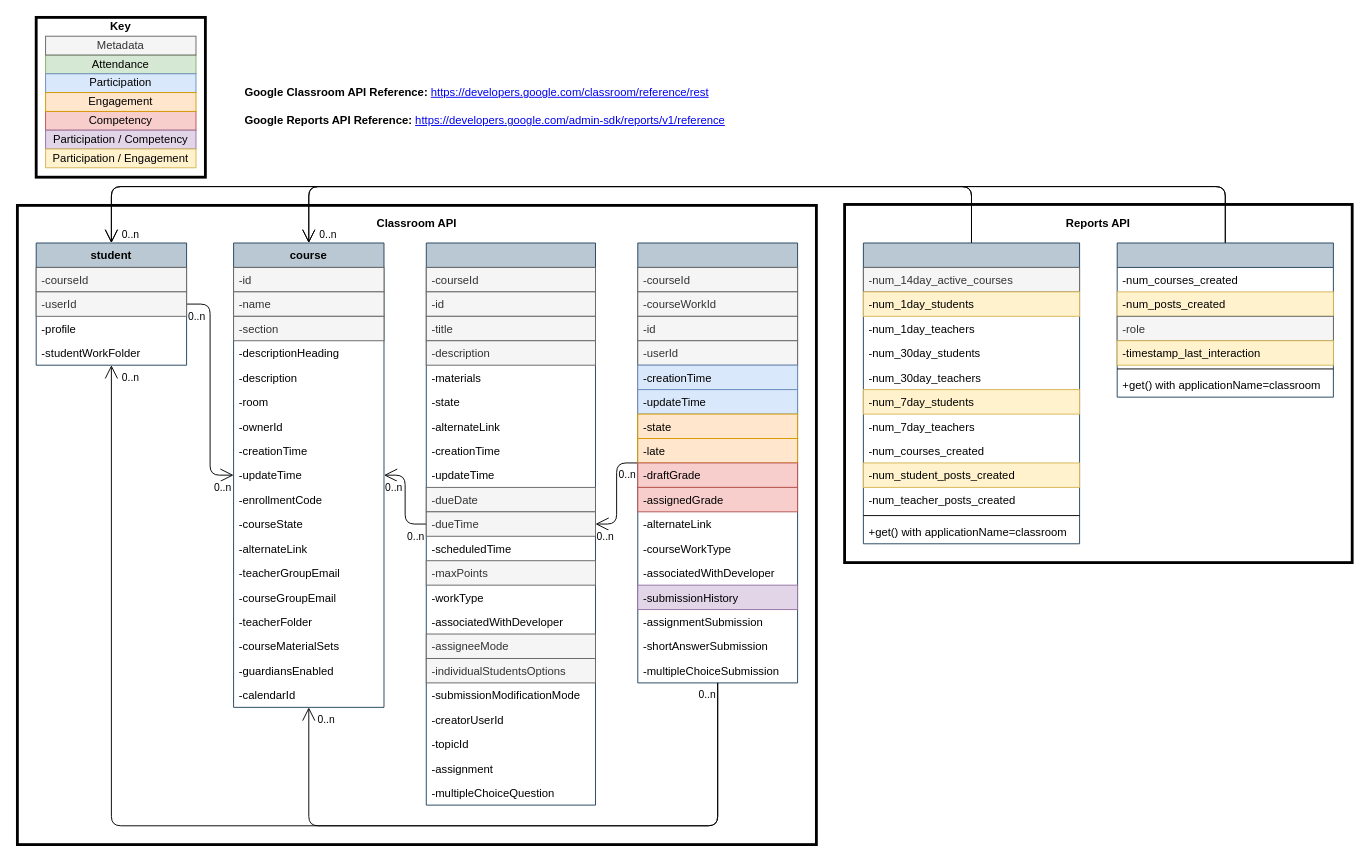
This 1370x862 diagram has some shape labels left out. Here are the shapes that lost their labels. From the top down, the box of each, then its label:
(1116, 242, 1333, 397): UserUsageReport
(862, 242, 1080, 544): CustomerUsageReport
(637, 242, 798, 683): studentSubmissions
(425, 242, 595, 805): courseWork
